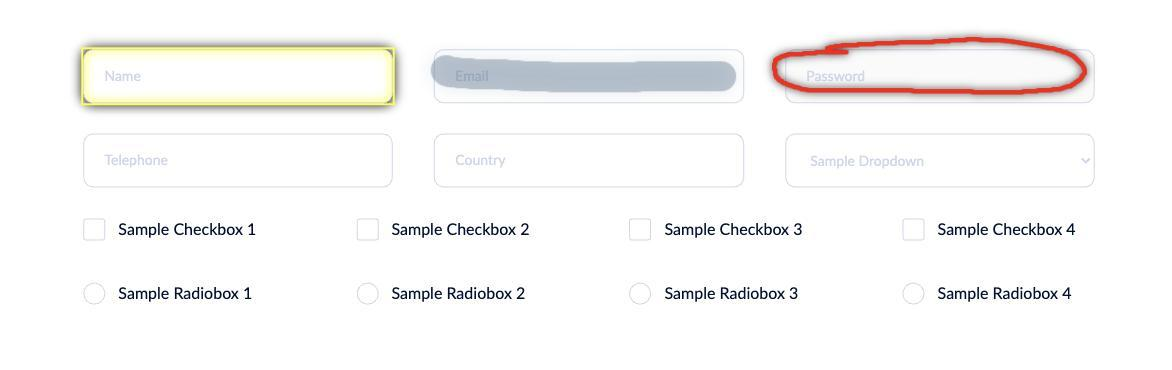checkbox: (629, 219, 653, 243), (903, 219, 926, 242), (357, 219, 381, 241), (84, 219, 107, 240)
dropdown: (787, 134, 1096, 188)
input: (82, 48, 395, 106), (435, 135, 745, 189), (86, 134, 400, 186), (787, 52, 1091, 104), (436, 53, 743, 103)
label: (391, 282, 531, 307), (118, 220, 258, 242), (933, 283, 1079, 304), (116, 284, 258, 304), (665, 285, 801, 305), (660, 221, 806, 239), (391, 223, 533, 240), (938, 223, 1080, 240)
radio: (83, 282, 107, 308), (630, 282, 653, 307), (357, 283, 380, 307), (903, 283, 926, 307)
